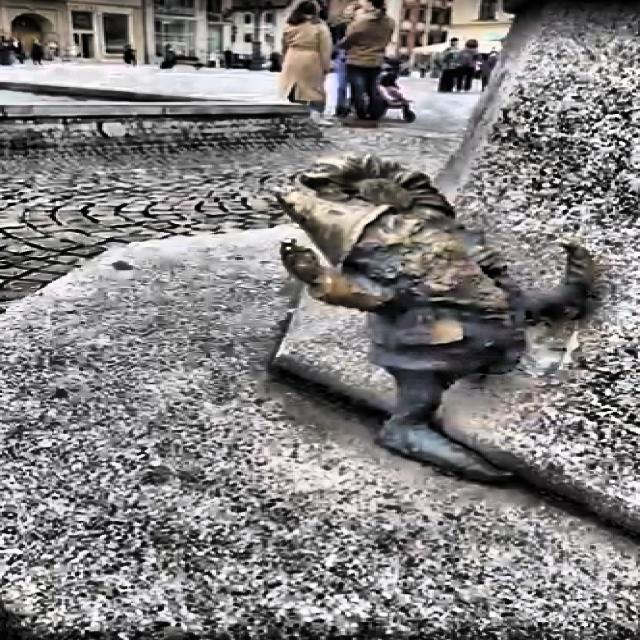Zyczliwek: (280, 155, 591, 482)
